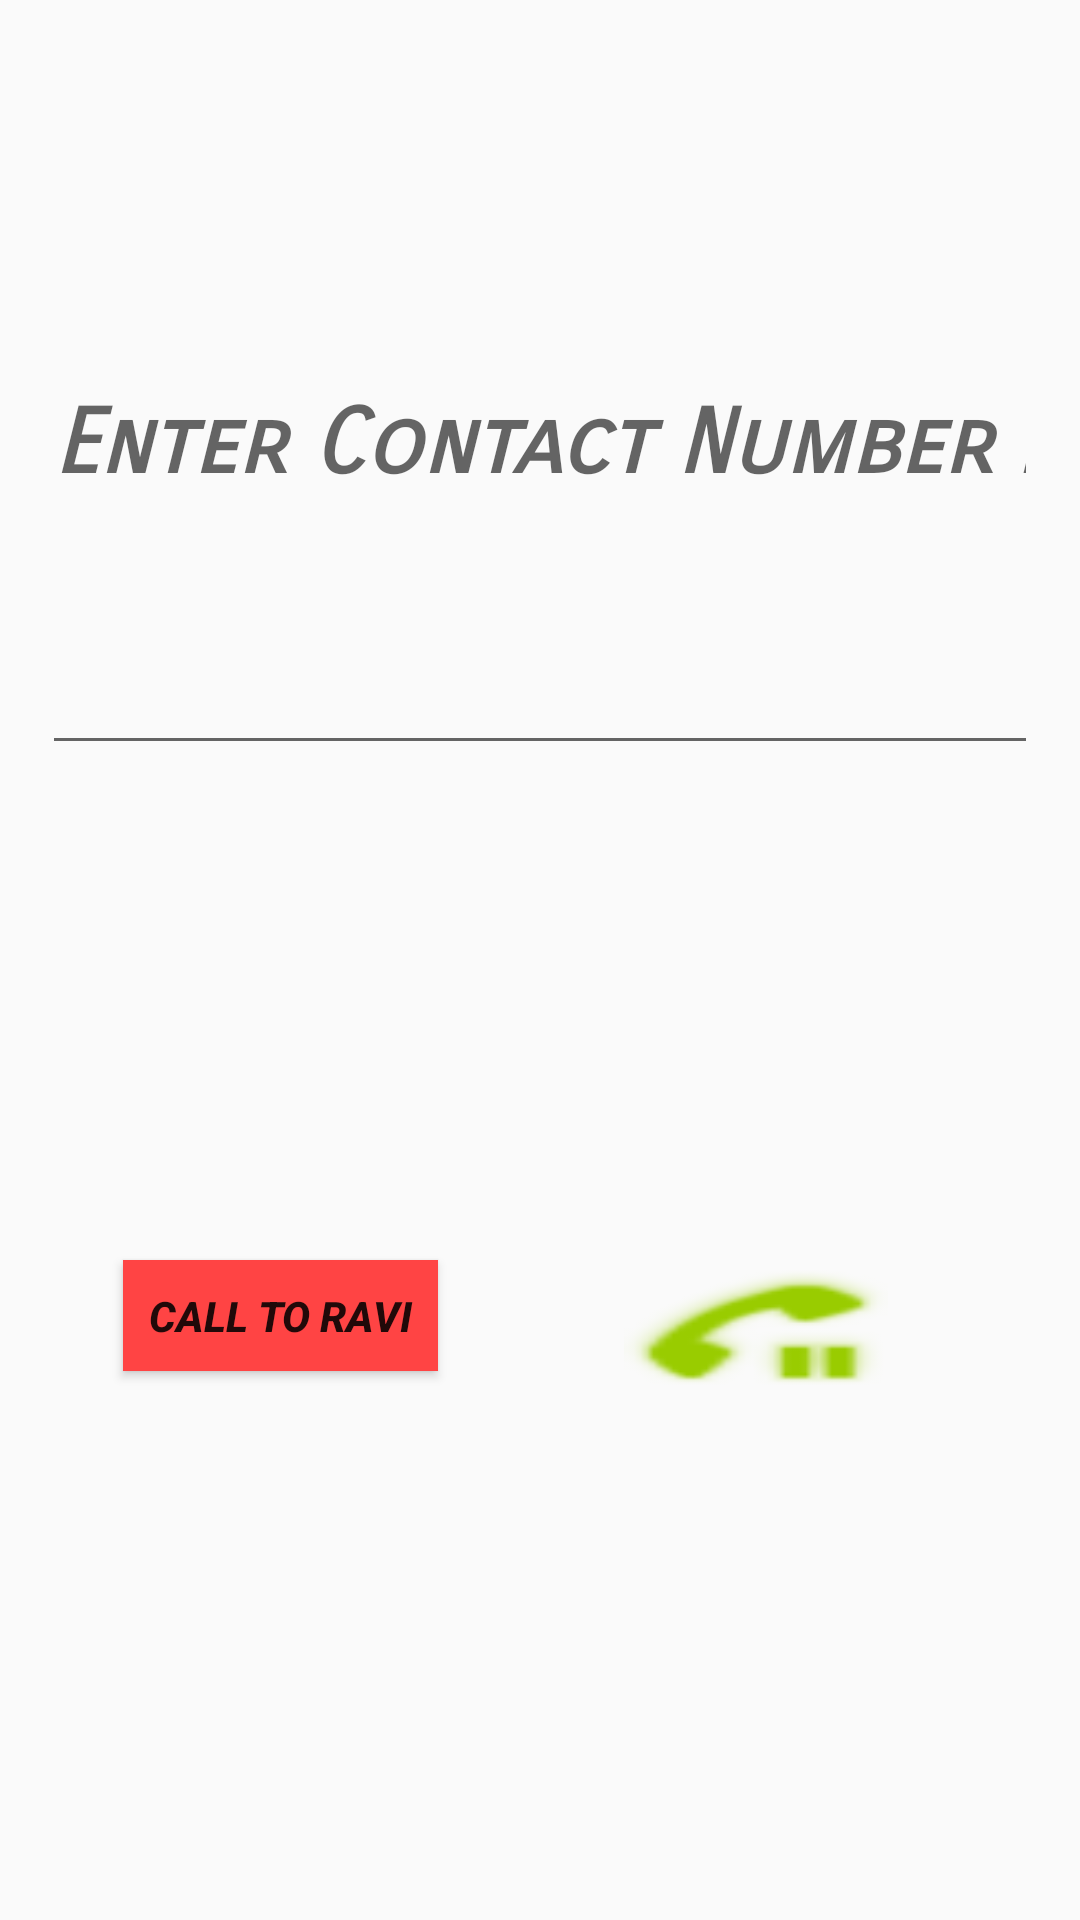

Screen size 1080*1920. Icon name, then its center in pixels as [x,y]:
phone call on hold: [754,1329]
